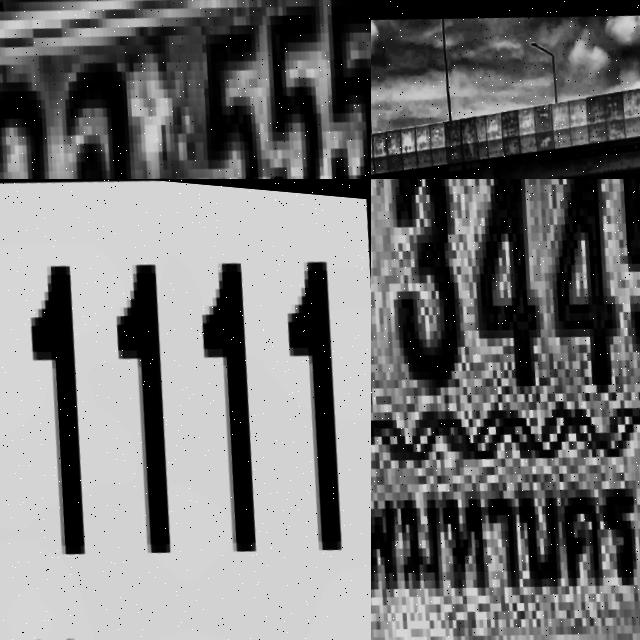license-plate: (0, 179, 371, 640), (371, 179, 640, 640), (0, 0, 371, 179)
